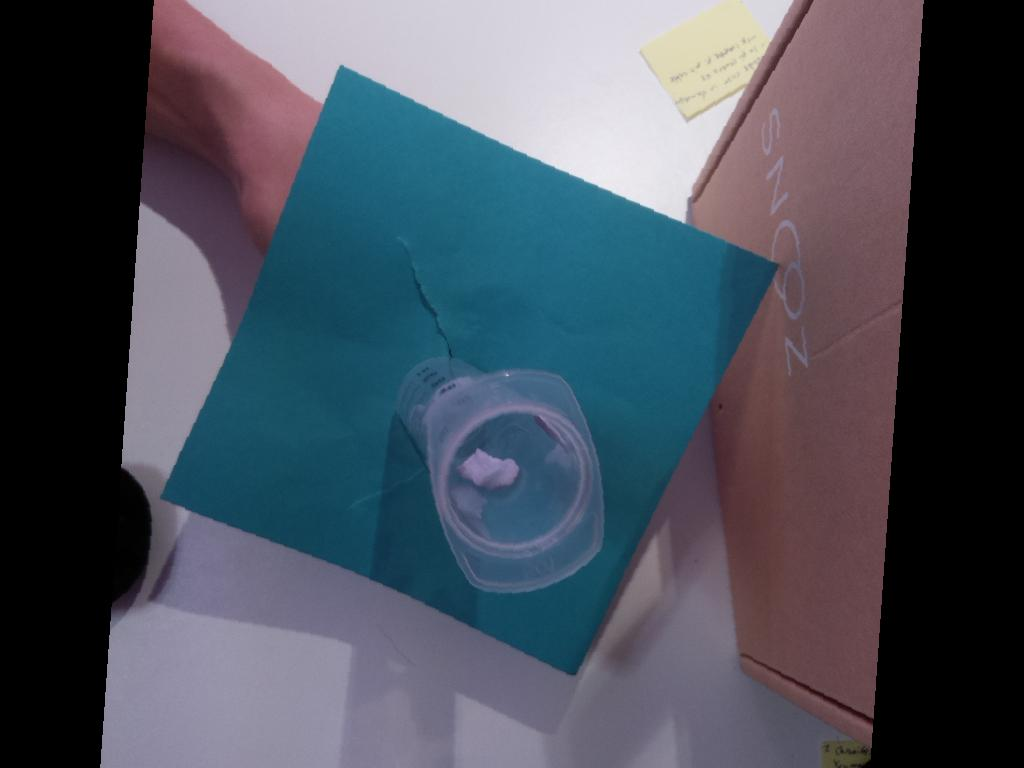dirty: (426, 367, 606, 594)
